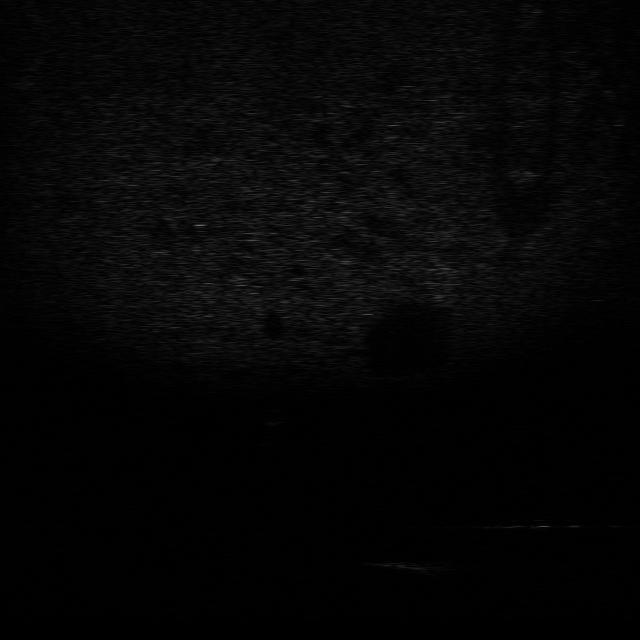ball: (252, 405, 290, 428)
metal bucket: (372, 552, 457, 579)
tyre: (490, 506, 585, 536)
